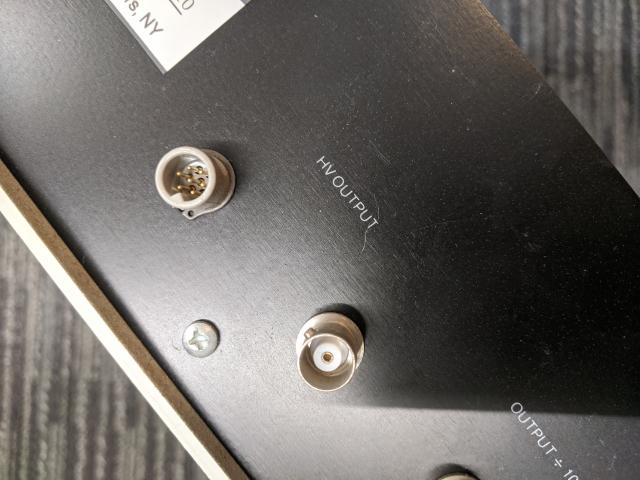CRS: (180, 320, 220, 357)
